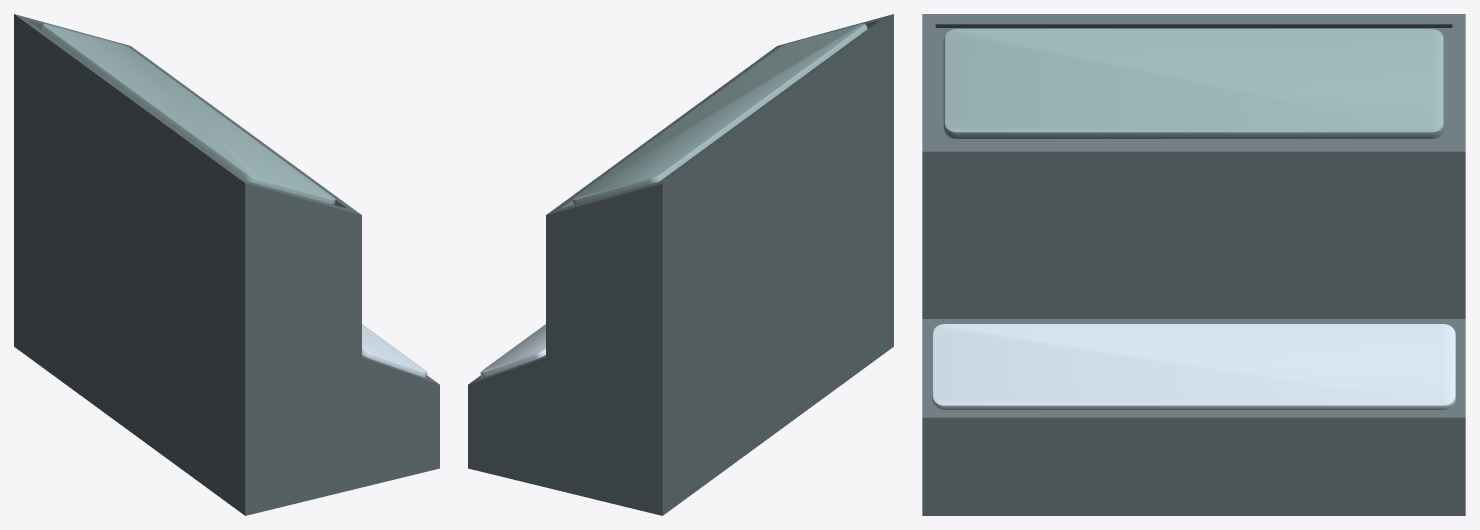
The model's file is Controls.fbx.
3 views of the same model, side by side, from view 1: azimuth 30°, elevation 25°; view 2: azimuth 150°, elevation 25°; view 3: azimuth 270°, elevation 25° (orthographic). The views are drawn at different scales.
Visible parts, largest first — view 1: Cube; view 2: Cube; view 3: Cube.
Part boxes in pixels (x1,y1,x2,y2): Cube: (14,14,439,515); Cube: (468,14,893,515); Cube: (922,14,1465,515).
Size of the model in its own units: 42.5 by 69.43 by 87.5.
